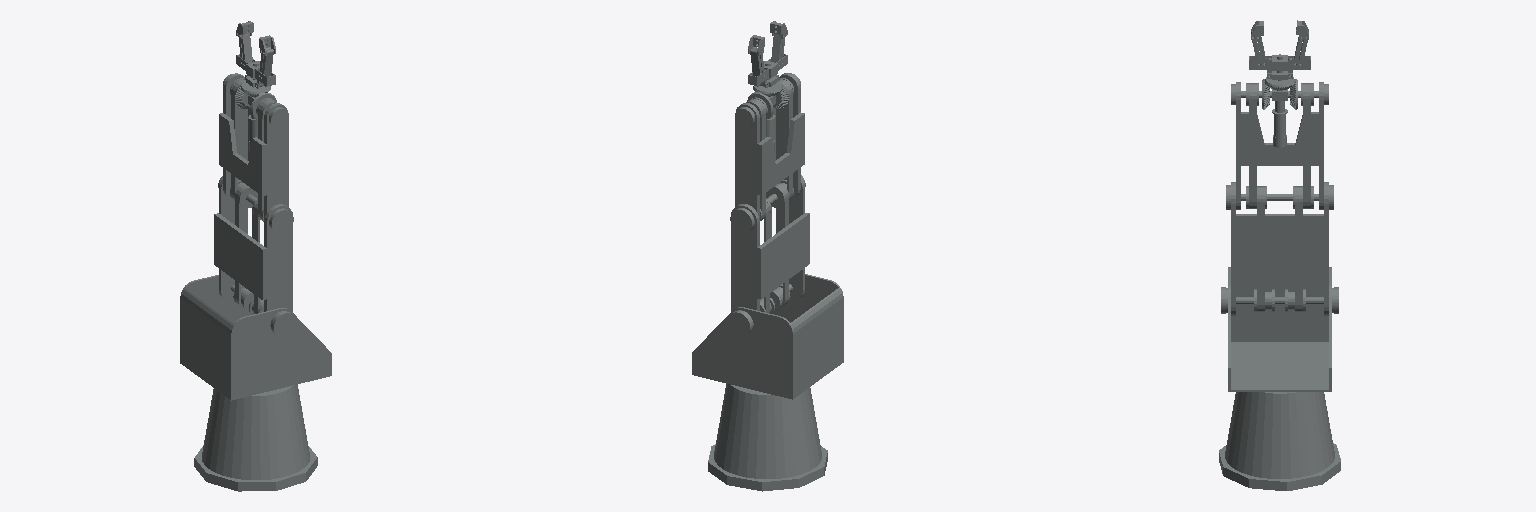
The robot description file, URDF, robot "scorbot":
<?xml version="1.0" encoding="utf-8"?>
<robot
  name="scorbot">
  <link
    name="base_link">
    <inertial>
      <origin
        xyz="3.57353036051222E-16 0 0.0959467613422253"
        rpy="0 0 0" />
      <mass
        value="44.2535272283148" />
      <inertia
        ixx="0.247896294723323"
        ixy="-4.16333634234434E-17"
        ixz="-3.79623896820991E-16"
        iyy="0.247896294723323"
        iyz="6.12958935067386E-17"
        izz="0.212101712141814" />
    </inertial>
    <visual>
      <origin
        xyz="0 0 0"
        rpy="0 0 0" />
      <geometry>
        <mesh
          filename="package://scorbot_description/meshes/base_link.STL" />
      </geometry>
      <material
        name="yellow">
        <color
          rgba="0.529411764705882 0.549019607843137 0.549019607843137 1" />
      </material>
    </visual>
    <collision>
      <origin
        xyz="0 0 0"
        rpy="0 0 0" />
      <geometry>
        <mesh
          filename="package://scorbot_description/meshes/base_link.STL" />
      </geometry>
    </collision>
  </link>
  <link
    name="Link_1">
    <inertial>
      <origin
        xyz="-0.0393024891683798 1.38777878078145E-16 -0.0874617547525774"
        rpy="0 0 0" />
      <mass
        value="5.94250216126264" />
      <inertia
        ixx="0.0488063937041339"
        ixy="5.5944832100252E-17"
        ixz="0.00772319680952084"
        iyy="0.0448674445167095"
        iyz="6.00070153152218E-17"
        izz="0.0629004503463325" />
    </inertial>
    <visual>
      <origin
        xyz="0 0 0"
        rpy="0 0 0" />
      <geometry>
        <mesh
          filename="package://scorbot_description/meshes/Link_1.STL" />
      </geometry>
      <material
        name="blue">
        <color
          rgba="0.529411764705882 0.549019607843137 0.549019607843137 1" />
      </material>
    </visual>
    <collision>
      <origin
        xyz="0 0 0"
        rpy="0 0 0" />
      <geometry>
        <mesh
          filename="package://scorbot_description/meshes/Link_1.STL" />
      </geometry>
    </collision>
  </link>
  <joint
    name="joint_1"
    type="revolute">
    <origin
      xyz="0 0 0.362"
      rpy="0 0 0" />
    <parent
      link="base_link" />
    <child
      link="Link_1" />
    <axis
      xyz="0 0 1" />
    <limit
      lower="0"
      upper="1.5708"
      effort="10"
      velocity="2" />
  </joint>
  <link
    name="Link_2">
    <inertial>
      <origin
        xyz="-0.00962335232420992 8.32667268468867E-17 0.0786981470078051"
        rpy="0 0 0" />
      <mass
        value="5.92901497084969" />
      <inertia
        ixx="0.0204163441806219"
        ixy="-6.50521303491303E-19"
        ixz="2.23710864908789E-17"
        iyy="0.0149522802458732"
        iyz="7.27587289552345E-18"
        izz="0.00762399978976403" />
    </inertial>
    <visual>
      <origin
        xyz="0 0 0"
        rpy="0 0 0" />
      <geometry>
        <mesh
          filename="package://scorbot_description/meshes/Link_2.STL" />
      </geometry>
      <material
        name="black">
        <color
          rgba="0.529411764705882 0.549019607843137 0.549019607843137 1" />
      </material>
    </visual>
    <collision>
      <origin
        xyz="0 0 0"
        rpy="0 0 0" />
      <geometry>
        <mesh
          filename="package://scorbot_description/meshes/Link_2.STL" />
      </geometry>
    </collision>
  </link>
  <joint
    name="joint_2"
    type="revolute">
    <origin
      xyz="0 0 0"
      rpy="0 0 0" />
    <parent
      link="Link_1" />
    <child
      link="Link_2" />
    <axis
      xyz="0 1 0" />
    <limit
      lower="0"
      upper="1.5708"
      effort="10"
      velocity="2" />
  </joint>
  <link
    name="Link_3">
    <inertial>
      <origin
        xyz="-0.00667311688772381 -1.66533453693773E-16 0.0732055879080055"
        rpy="0 0 0" />
      <mass
        value="4.84788451098674" />
      <inertia
        ixx="0.0164706779946934"
        ixy="6.50521303491303E-19"
        ixz="2.22922656348282E-17"
        iyy="0.011735256889825"
        iyz="-1.5894285408225E-19"
        izz="0.00623253485779257" />
    </inertial>
    <visual>
      <origin
        xyz="0 0 0"
        rpy="0 0 0" />
      <geometry>
        <mesh
          filename="package://scorbot_description/meshes/Link_3.STL" />
      </geometry>
      <material
        name="green">
        <color
          rgba="0.529411764705882 0.549019607843137 0.549019607843137 1" />
      </material>
    </visual>
    <collision>
      <origin
        xyz="0 0 0"
        rpy="0 0 0" />
      <geometry>
        <mesh
          filename="package://scorbot_description/meshes/Link_3.STL" />
      </geometry>
    </collision>
  </link>
  <joint
    name="joint_3"
    type="revolute">
    <origin
      xyz="0 0 0.22"
      rpy="0 0 0" />
    <parent
      link="Link_2" />
    <child
      link="Link_3" />
    <axis
      xyz="0 1 0" />
    <limit
      lower="0"
      upper="1.5708"
      effort="10"
      velocity="2" />
  </joint>
  <link
    name="Link_4">
    <inertial>
      <origin
        xyz="1.95850198032553E-05 1.1685798894906E-05 0.0164517277716482"
        rpy="0 0 0" />
      <mass
        value="2.84057550912738" />
      <inertia
        ixx="0.00120052693410438"
        ixy="-4.75839738434385E-12"
        ixz="-6.3328563496909E-12"
        iyy="0.00109014194402835"
        iyz="-9.59491723665103E-08"
        izz="0.000658884515276176" />
    </inertial>
    <visual>
      <origin
        xyz="0 0 0"
        rpy="0 0 0" />
      <geometry>
        <mesh
          filename="package://scorbot_description/meshes/Link_4.STL" />
      </geometry>
      <material
        name="red">
        <color
          rgba="0.529411764705882 0.549019607843137 0.549019607843137 1" />
      </material>
    </visual>
    <collision>
      <origin
        xyz="0 0 0"
        rpy="0 0 0" />
      <geometry>
        <mesh
          filename="package://scorbot_description/meshes/Link_4.STL" />
      </geometry>
    </collision>
  </link>
  <joint
    name="joint_4"
    type="revolute">
    <origin
      xyz="0 0 0.22"
      rpy="0 0 0" />
    <parent
      link="Link_3" />
    <child
      link="Link_4" />
    <axis
      xyz="0 1 0" />
    <limit
      lower="0"
      upper="1.5708"
      effort="10"
      velocity="2" />
  </joint>
  
</robot>

--- Render facts (derived) ---
Views: 3 orthographic renders of the robot side by side, from view 1: azimuth 30°, elevation 25°; view 2: azimuth 150°, elevation 25°; view 3: azimuth 270°, elevation 25°.
Model scorbot with 5 links and 4 joints (4 revolute), rooted at base_link, posed all joints at 0.
Links seen in each view (by area): view 1: Link_1, base_link, Link_2, Link_3, Link_4; view 2: Link_1, base_link, Link_2, Link_3, Link_4; view 3: Link_1, base_link, Link_2, Link_3, Link_4.
Link boxes in pixels (x1,y1,x2,y2): Link_1: [180, 275, 331, 400]; base_link: [194, 384, 317, 491]; Link_2: [214, 178, 296, 337]; Link_3: [218, 73, 293, 233]; Link_4: [223, 21, 288, 150]; Link_1: [692, 274, 843, 399]; base_link: [708, 384, 827, 491]; Link_2: [727, 177, 809, 336]; Link_3: [730, 73, 805, 232]; Link_4: [735, 21, 800, 150]; Link_1: [1228, 267, 1331, 391]; base_link: [1219, 392, 1340, 490]; Link_2: [1221, 182, 1338, 315]; Link_3: [1226, 82, 1333, 209]; Link_4: [1231, 20, 1328, 147].
Size in the robot's own frame: 0.2402 by 0.2371 by 0.9446 metres.
5 mesh visuals loaded from 5 distinct referenced files (5 binary STL).